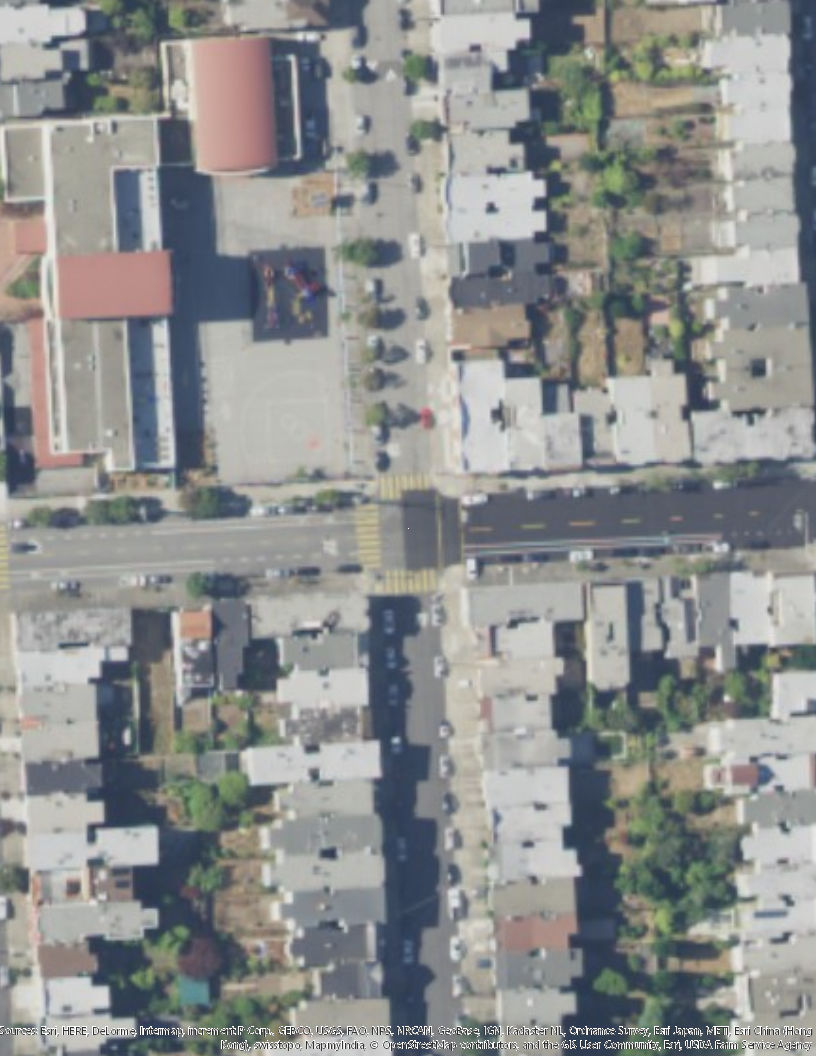zebracross: (354, 500, 385, 570), (373, 567, 440, 593), (375, 475, 437, 501), (1, 529, 9, 592)
